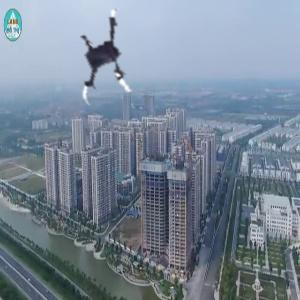drone: (59, 10, 164, 115)
